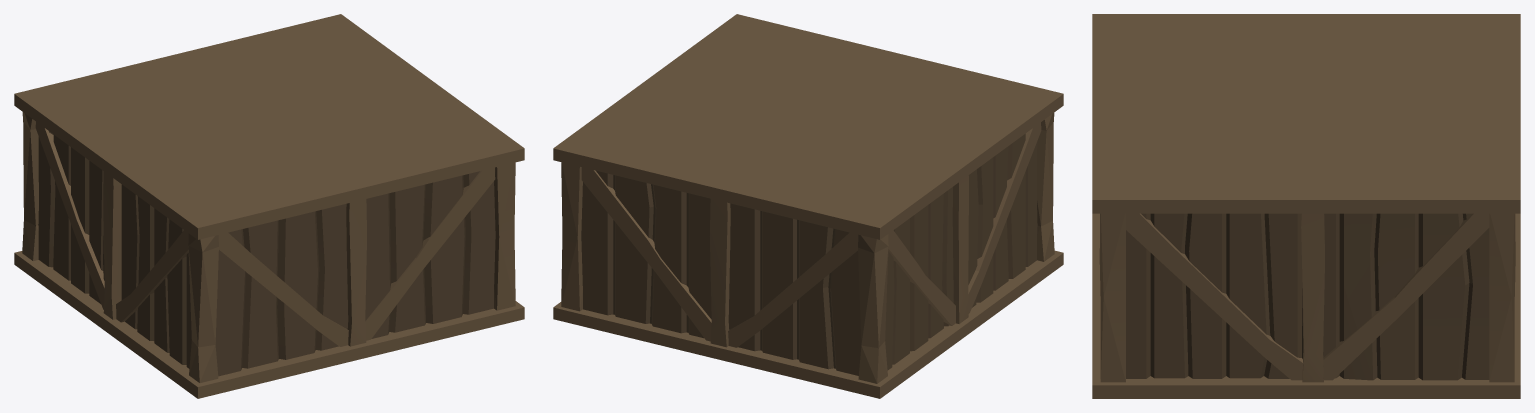
3 views of the same model, side by side, from view 1: azimuth 30°, elevation 25°; view 2: azimuth 150°, elevation 25°; view 3: azimuth 270°, elevation 25° (orthographic). The views are drawn at different scales.
Parts seen in each view (by area): view 1: SM_Bld_Base_02; view 2: SM_Bld_Base_02; view 3: SM_Bld_Base_02.
Part boxes in pixels (left/top/right/bottom): SM_Bld_Base_02: left=14, top=14, right=524, bottom=398; SM_Bld_Base_02: left=553, top=14, right=1063, bottom=398; SM_Bld_Base_02: left=1092, top=14, right=1520, bottom=398.
Bounding box in the file's own units: 4.57 × 2.28 × 4.45.
1 material, 1 textured.
